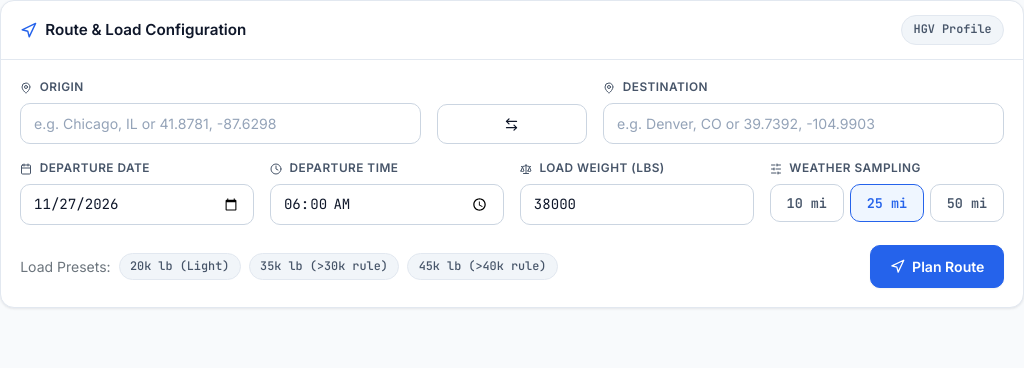
it: PlannerForm validation and submission › rejects out-of-range load weights and accepts valid inputs
Later steps or results of the test are not shown.
Type "Chicago, IL" into the field labelled "Origin".
click(220, 124); type("Chicago, IL")  # box [20, 103, 421, 144]
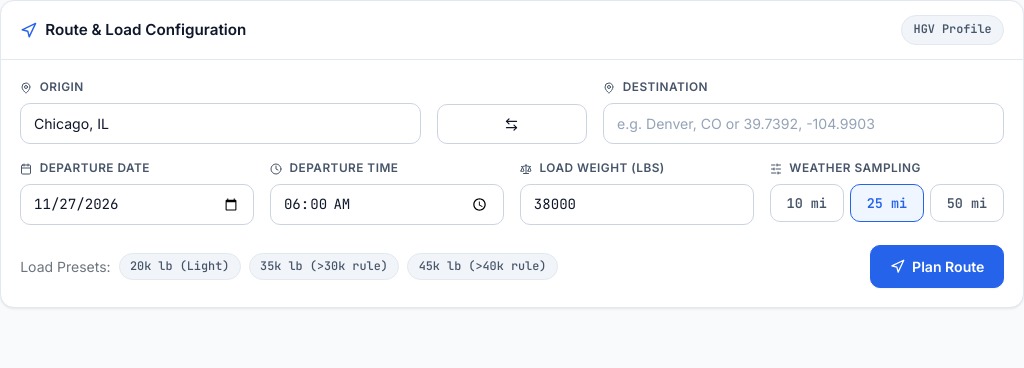
Type "Detroit, MI" into the field labelled "Destination".
click(804, 124); type("Detroit, MI")  # box [603, 103, 1004, 144]
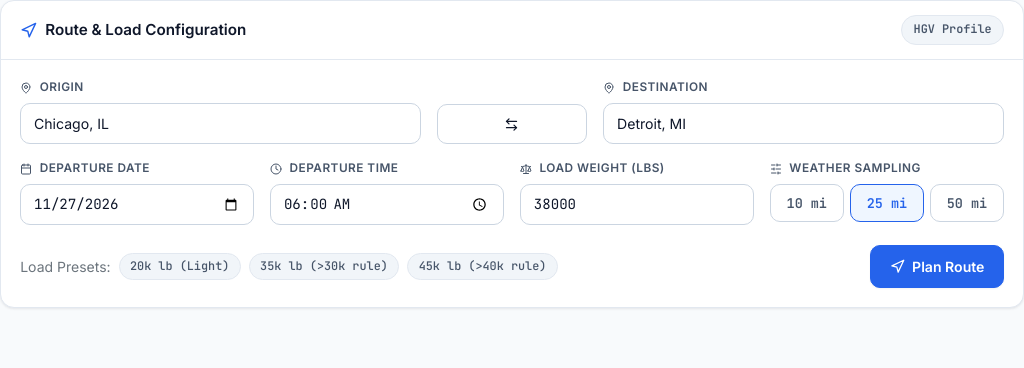
Type "250000" into the number field labelled "Load Weight (lbs)".
click(637, 204); type("250000")  # box [520, 184, 754, 225]
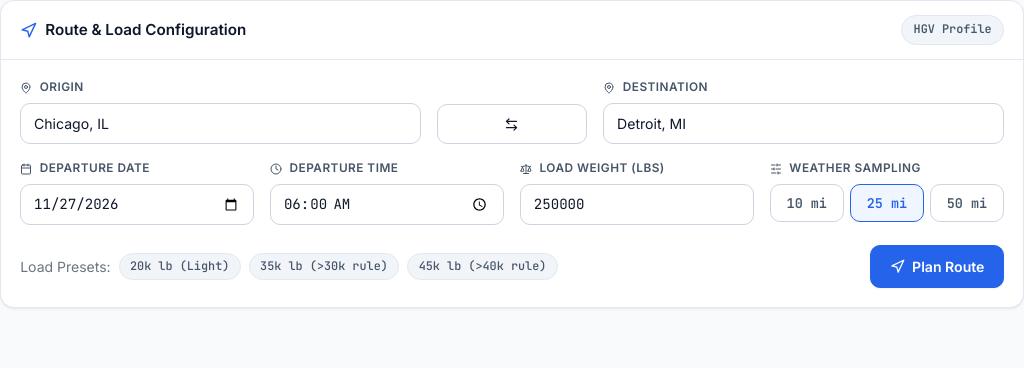
Click the button "Plan Route".
click(937, 266)  # box [870, 245, 1004, 288]
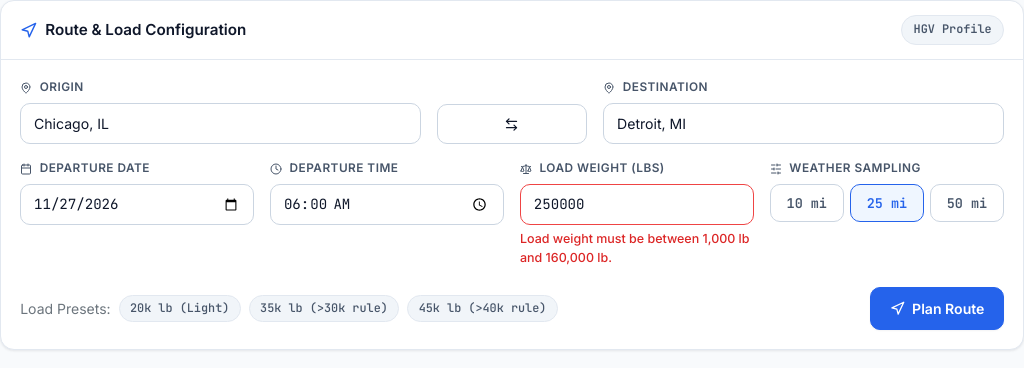
expect the text "Load weight must be between 1,000 lb and 160,000 lb." is shown: met, box [520, 230, 754, 267]
